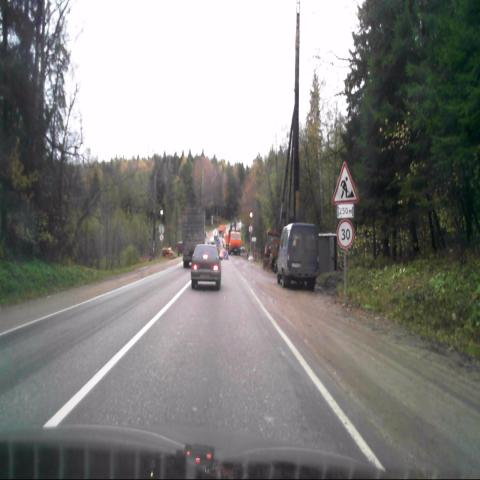1_25: (332, 160, 359, 203)
8_2_1: (338, 204, 354, 218)
